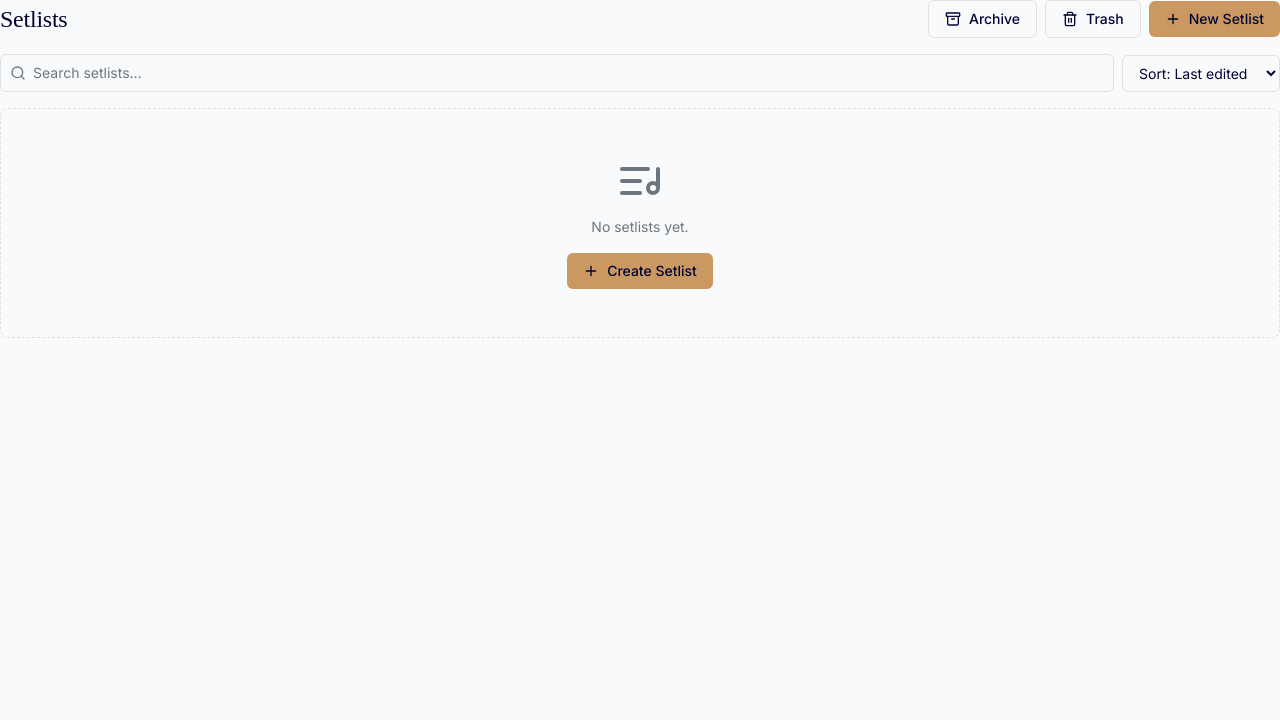
Test case: SetlistHubPage › positive › opens create modal on New Setlist click
The width and height of the screenshot is (1280, 720).
Click the button "New Setlist".
click(1214, 19)  # box [1149, 1, 1279, 37]
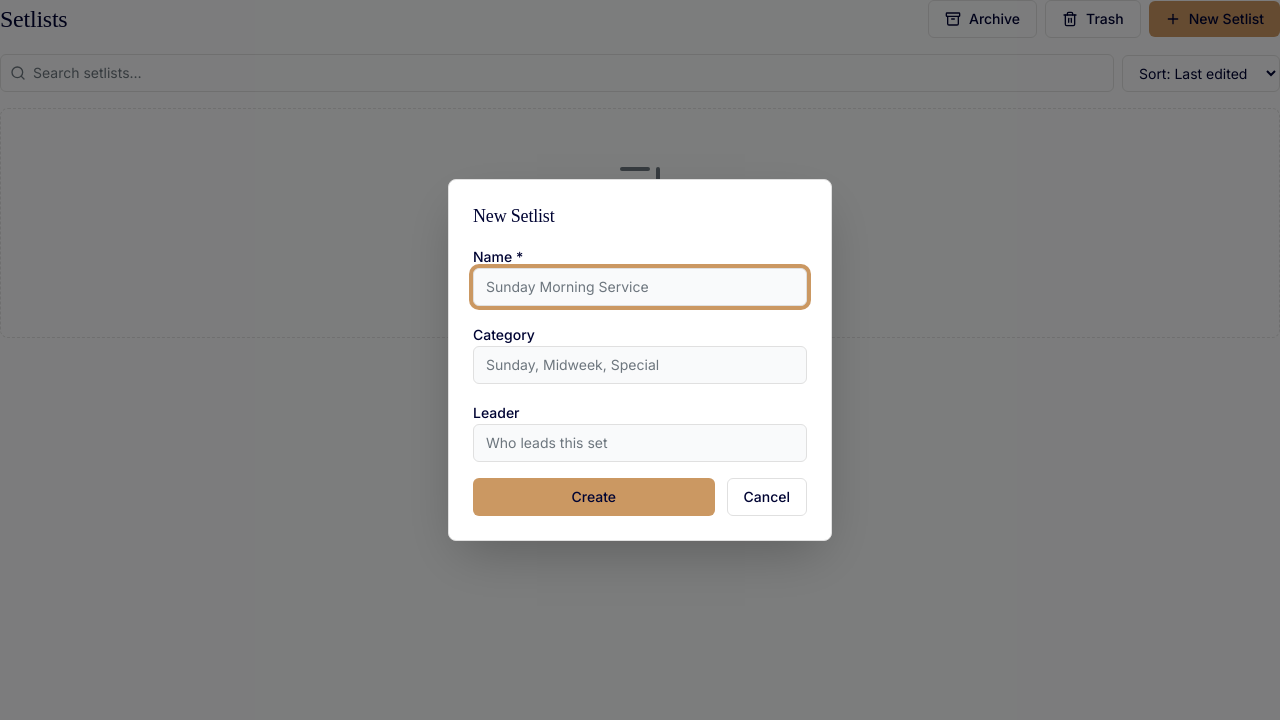
Expected: the heading "New Setlist" is shown, [473, 206, 554, 226]
Expected: the field with placeholder "Sunday Morning Service" is shown, [473, 268, 807, 306]
